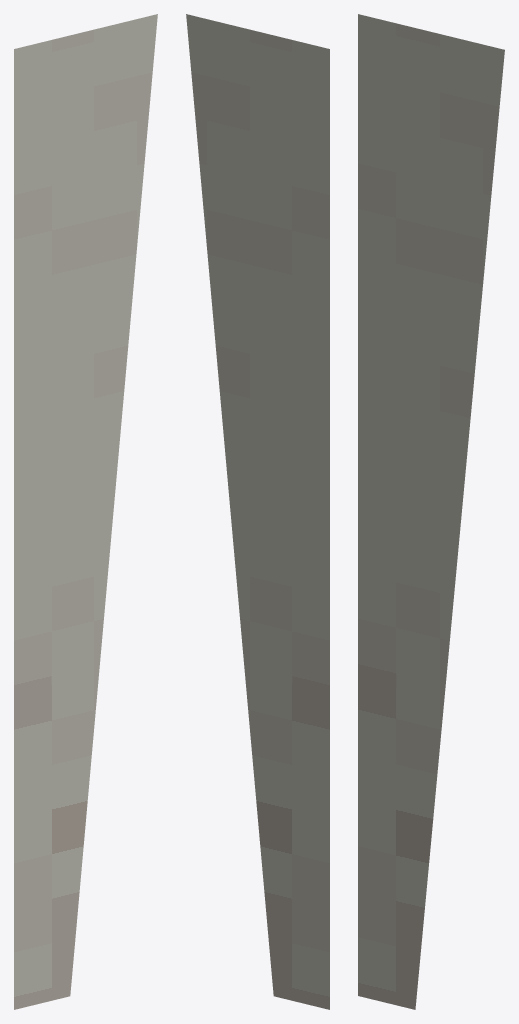
File: kd_stage_135c43_4_30_bounded_piece_8.glb
3 renders of one model, left to right at view 1: azimuth 30°, elevation 25°; view 2: azimuth 150°, elevation 25°; view 3: azimuth 330°, elevation 25°, orthographic. The views are drawn at different scales.
Visible parts, largest first — view 1: kd_stage_135c43_4_30_bounded_piece_8; view 2: kd_stage_135c43_4_30_bounded_piece_8; view 3: kd_stage_135c43_4_30_bounded_piece_8.
Part boxes in pixels (left/top/right/bottom): kd_stage_135c43_4_30_bounded_piece_8: left=14, top=14, right=157, bottom=1009; kd_stage_135c43_4_30_bounded_piece_8: left=186, top=14, right=329, bottom=1009; kd_stage_135c43_4_30_bounded_piece_8: left=358, top=14, right=504, bottom=1009.
Size of the model in its own units: 0.0205 by 0.1306 by 0.
1 material, 1 textured.
